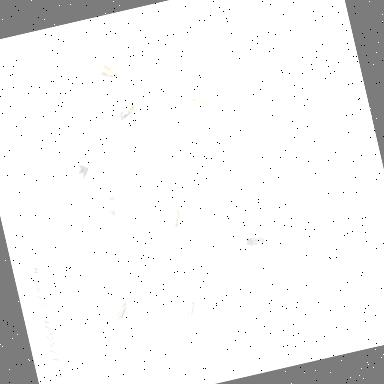pbw: (237, 225, 269, 254), (94, 54, 122, 86), (164, 199, 190, 233), (71, 154, 99, 184), (110, 295, 136, 326), (183, 90, 213, 116), (180, 296, 204, 326), (224, 92, 246, 123), (113, 100, 140, 124), (93, 204, 121, 227)
